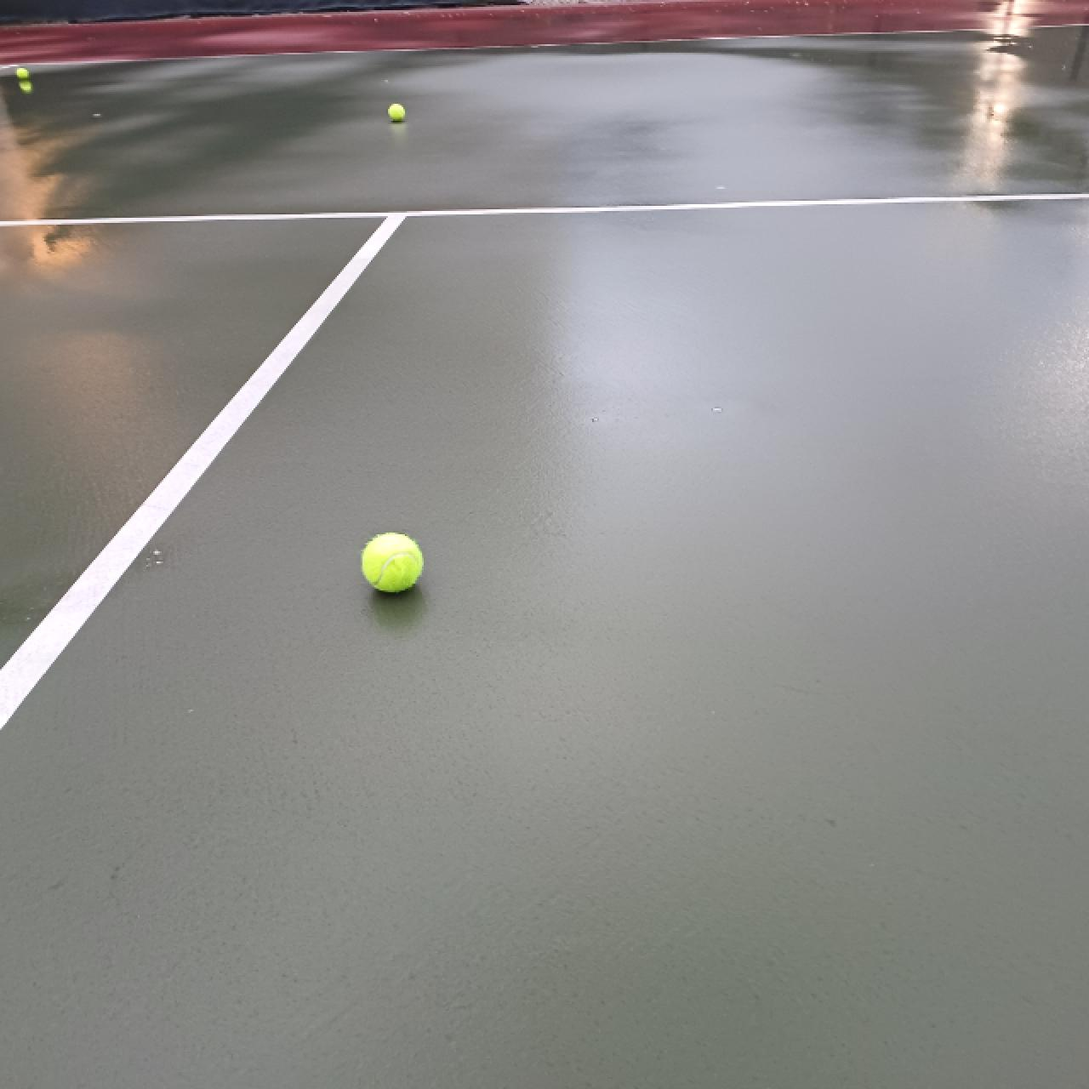tennis-ball: (359, 531, 425, 596), (387, 103, 407, 123), (15, 67, 31, 81)
